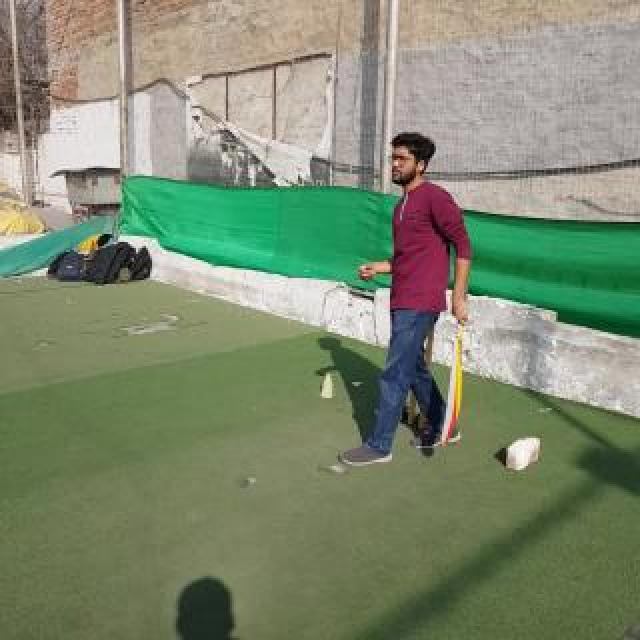bat: (440, 292, 470, 448)
